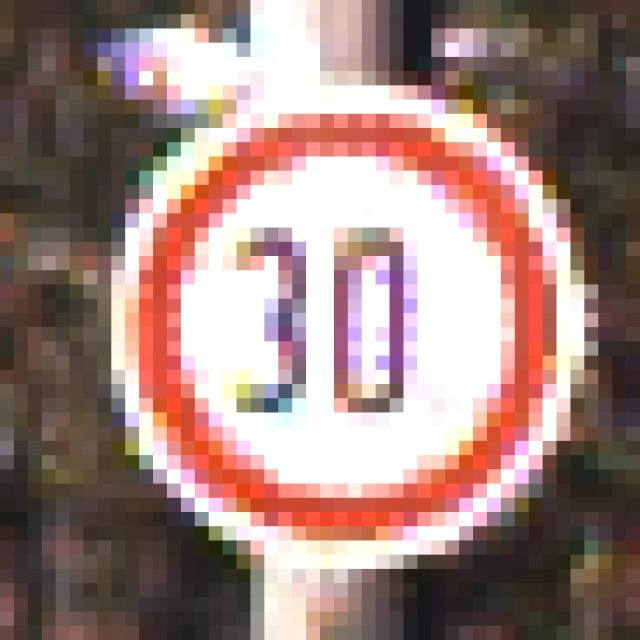Speed Limit -30-: (77, 64, 550, 548)
